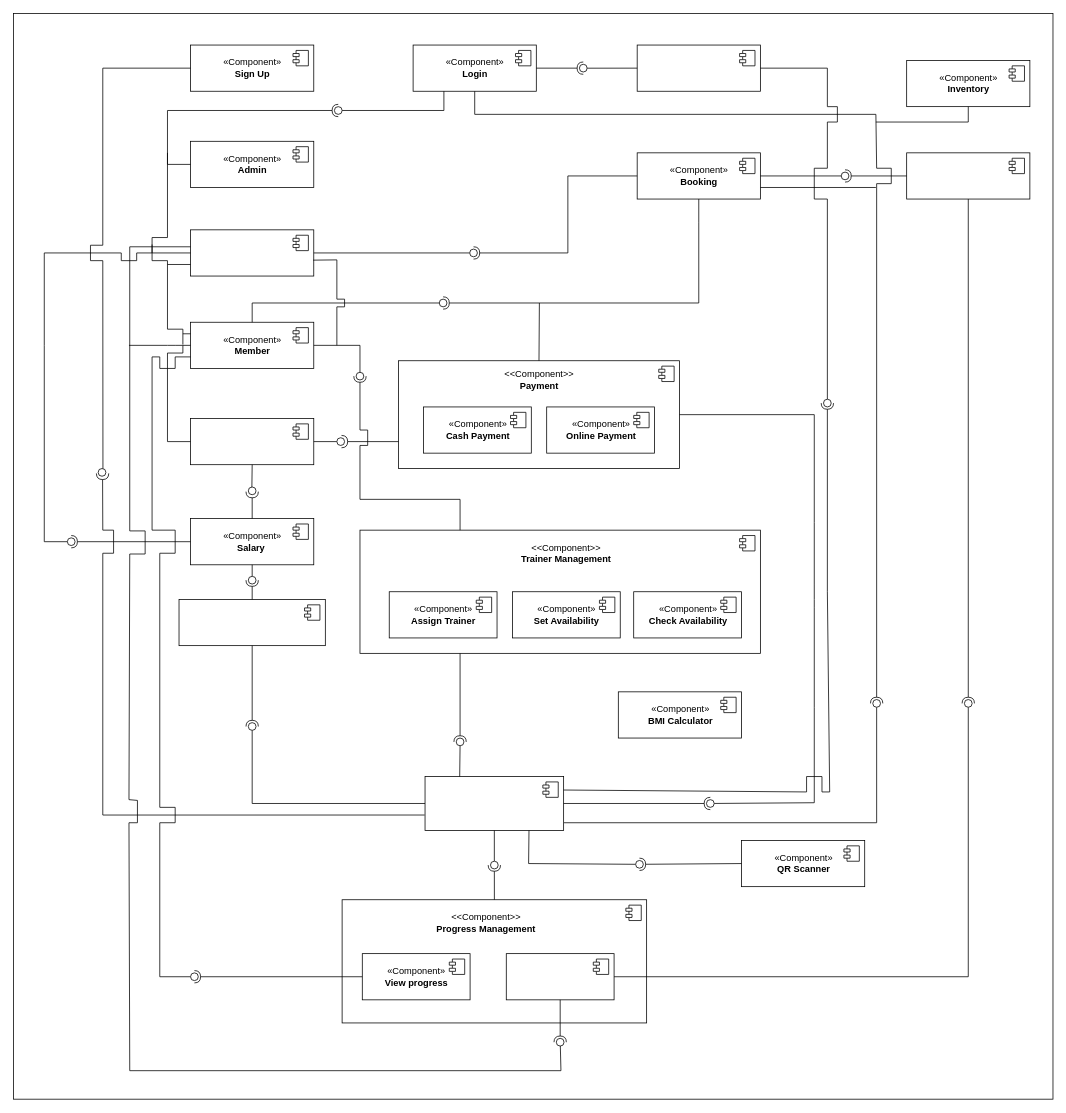
The diagram is 1066 pixels wide and 1113 high, and some of its shapes have lost their labels. The shapes that lost their labels are listed below. From the top down, each one's centre as x and y in pixels, then its label:
point (698, 67): «Component» Security
point (968, 175): «Component» Notification
point (252, 252): «Component» Trainer
point (252, 441): «Component» Accountant
point (251, 622): «Component» Payment, Salary, Profit Report
point (494, 803): «Component» Database
point (560, 976): «Component» Meal plan and schedule
